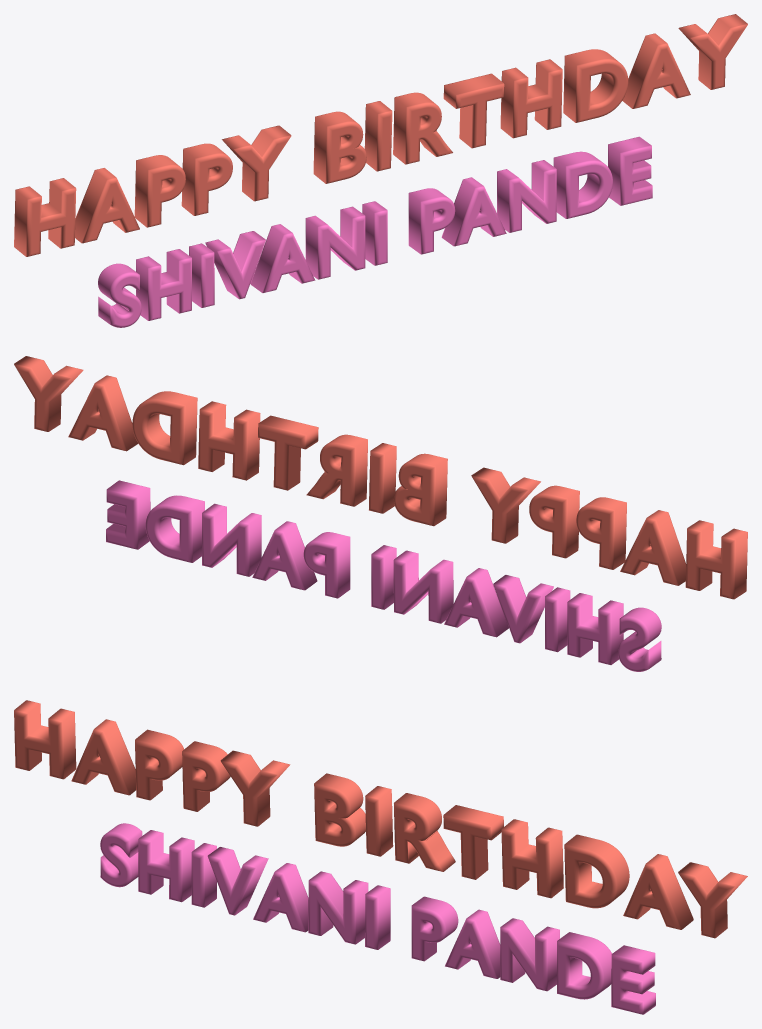
Rendered from shivani.gltf.
3 views of the same model, one above another, from view 1: azimuth 30°, elevation 25°; view 2: azimuth 150°, elevation 25°; view 3: azimuth 330°, elevation 25° (orthographic).
Parts seen in each view (by area): view 1: Text, Text.001; view 2: Text, Text.001; view 3: Text, Text.001.
Boxes of the visible parts, <box> form: Text: <box>14,14,747,256</box>; Text.001: <box>98,136,652,327</box>; Text: <box>14,356,747,599</box>; Text.001: <box>106,480,661,671</box>; Text: <box>14,700,747,938</box>; Text.001: <box>100,823,655,1014</box>.
Size of the model in its own units: 10.9 by 2.23 by 0.4463.
